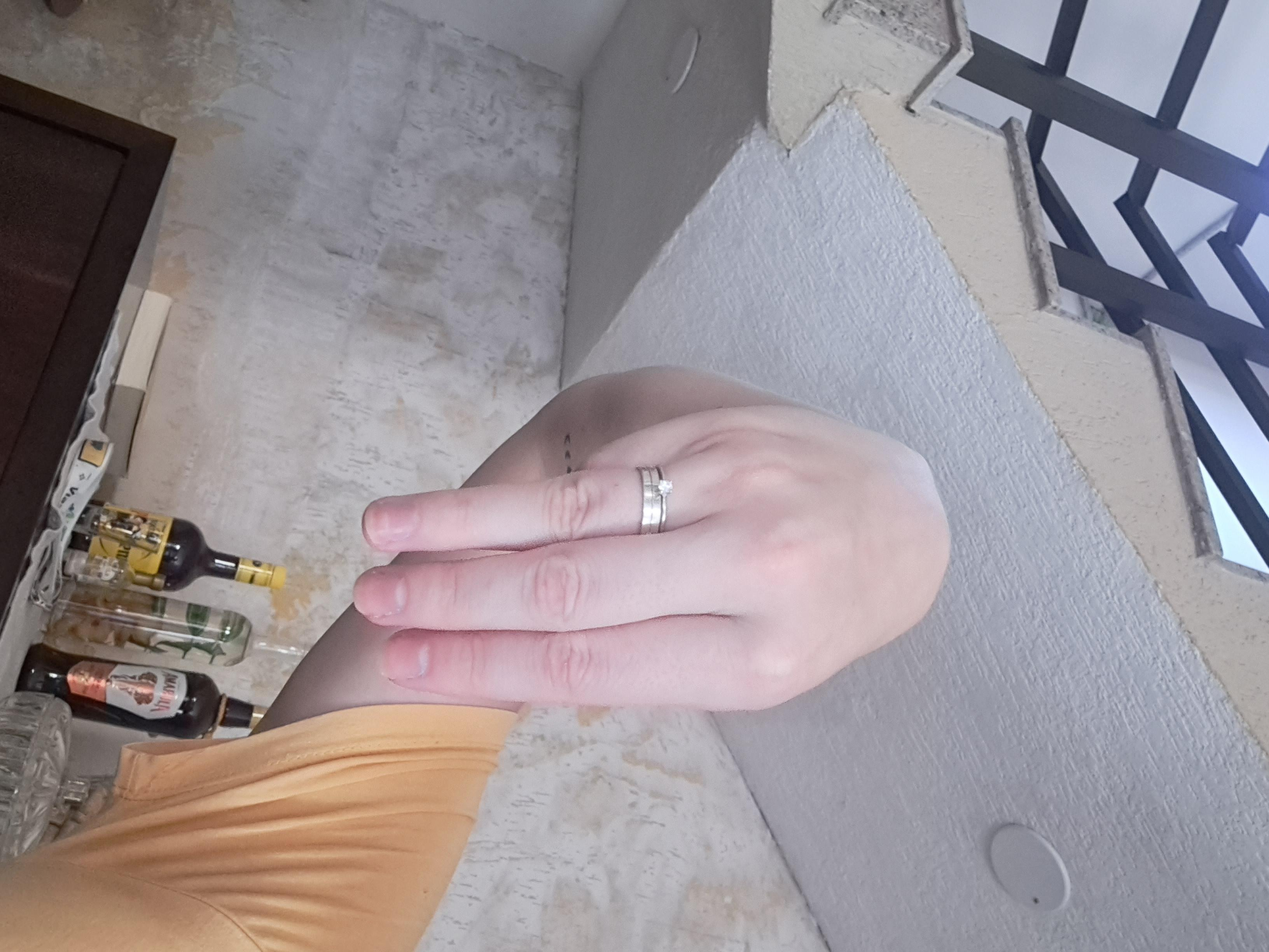M: (503, 213, 995, 703)
